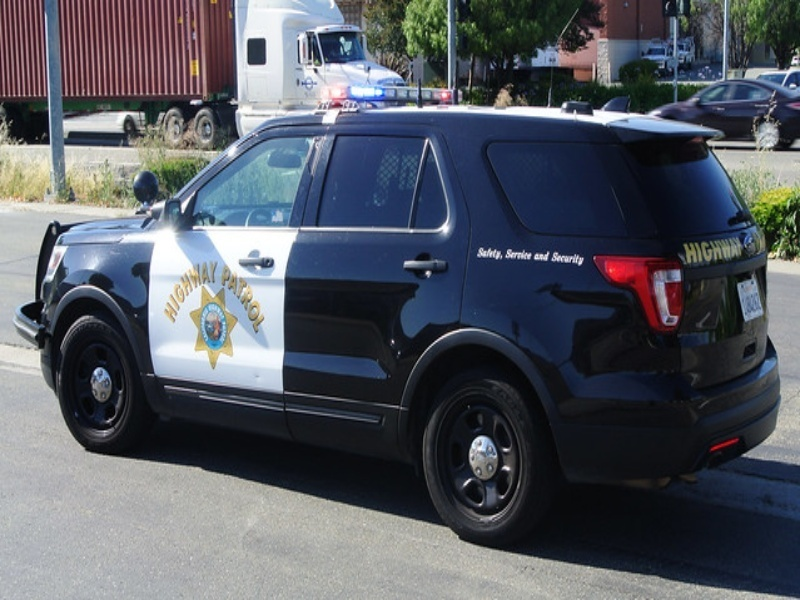policecar: (33, 108, 775, 526)
